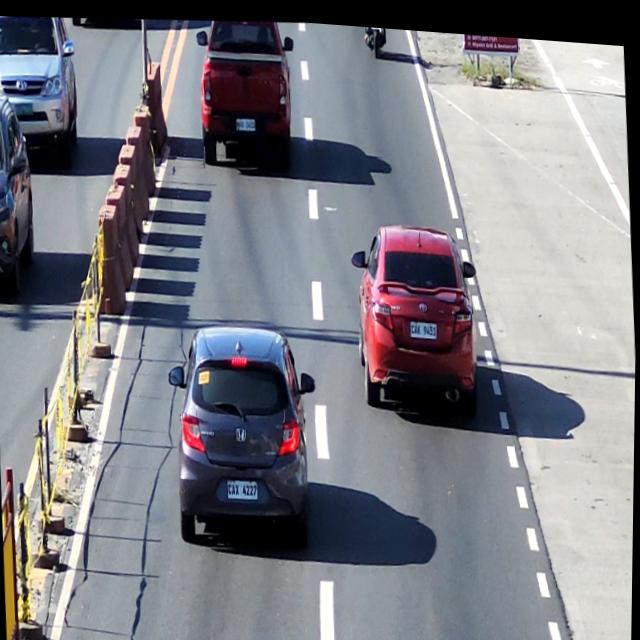Car: (169, 309, 318, 555), (345, 211, 485, 423), (192, 12, 299, 171), (0, 12, 82, 172), (0, 94, 42, 305)
License-Plate: (225, 472, 262, 503), (409, 310, 440, 339), (236, 111, 257, 132)
Motorcycle: (363, 21, 390, 57)
